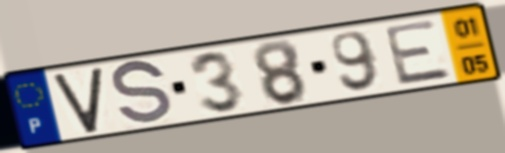3: (187, 48, 246, 116)
8: (250, 38, 310, 108)
9: (329, 30, 383, 93)
E: (380, 17, 456, 88)
S: (109, 57, 175, 129)
V: (50, 64, 105, 136)
